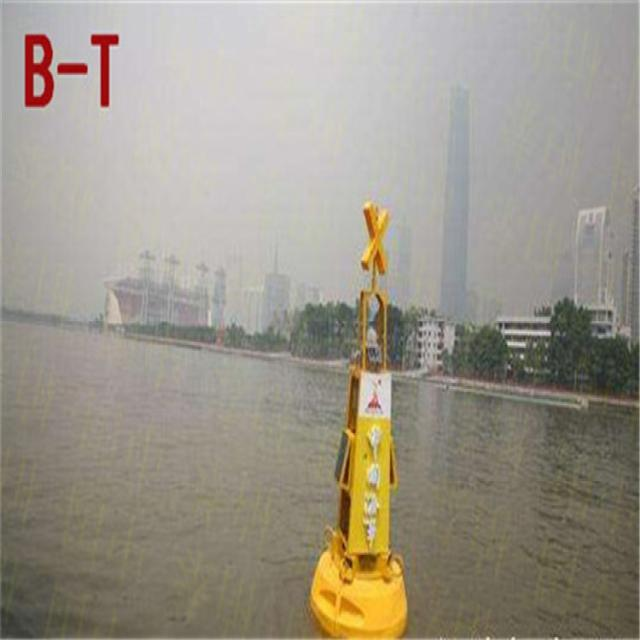buoy: (310, 189, 412, 640)
